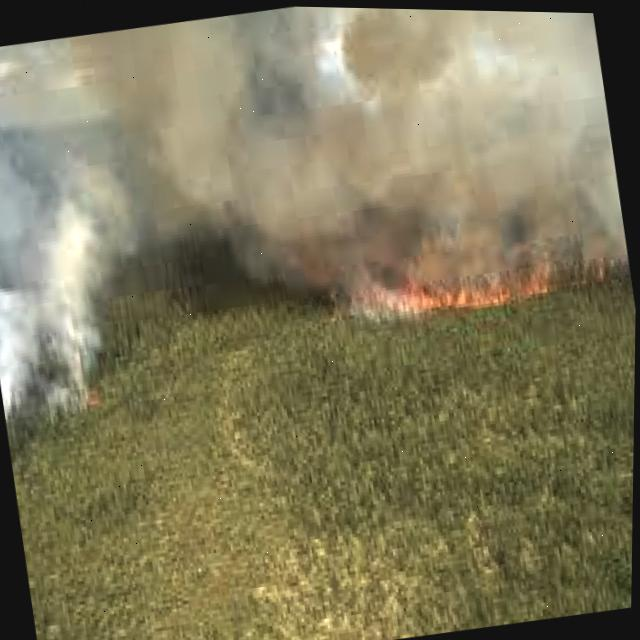smoke: (0, 5, 625, 419)
